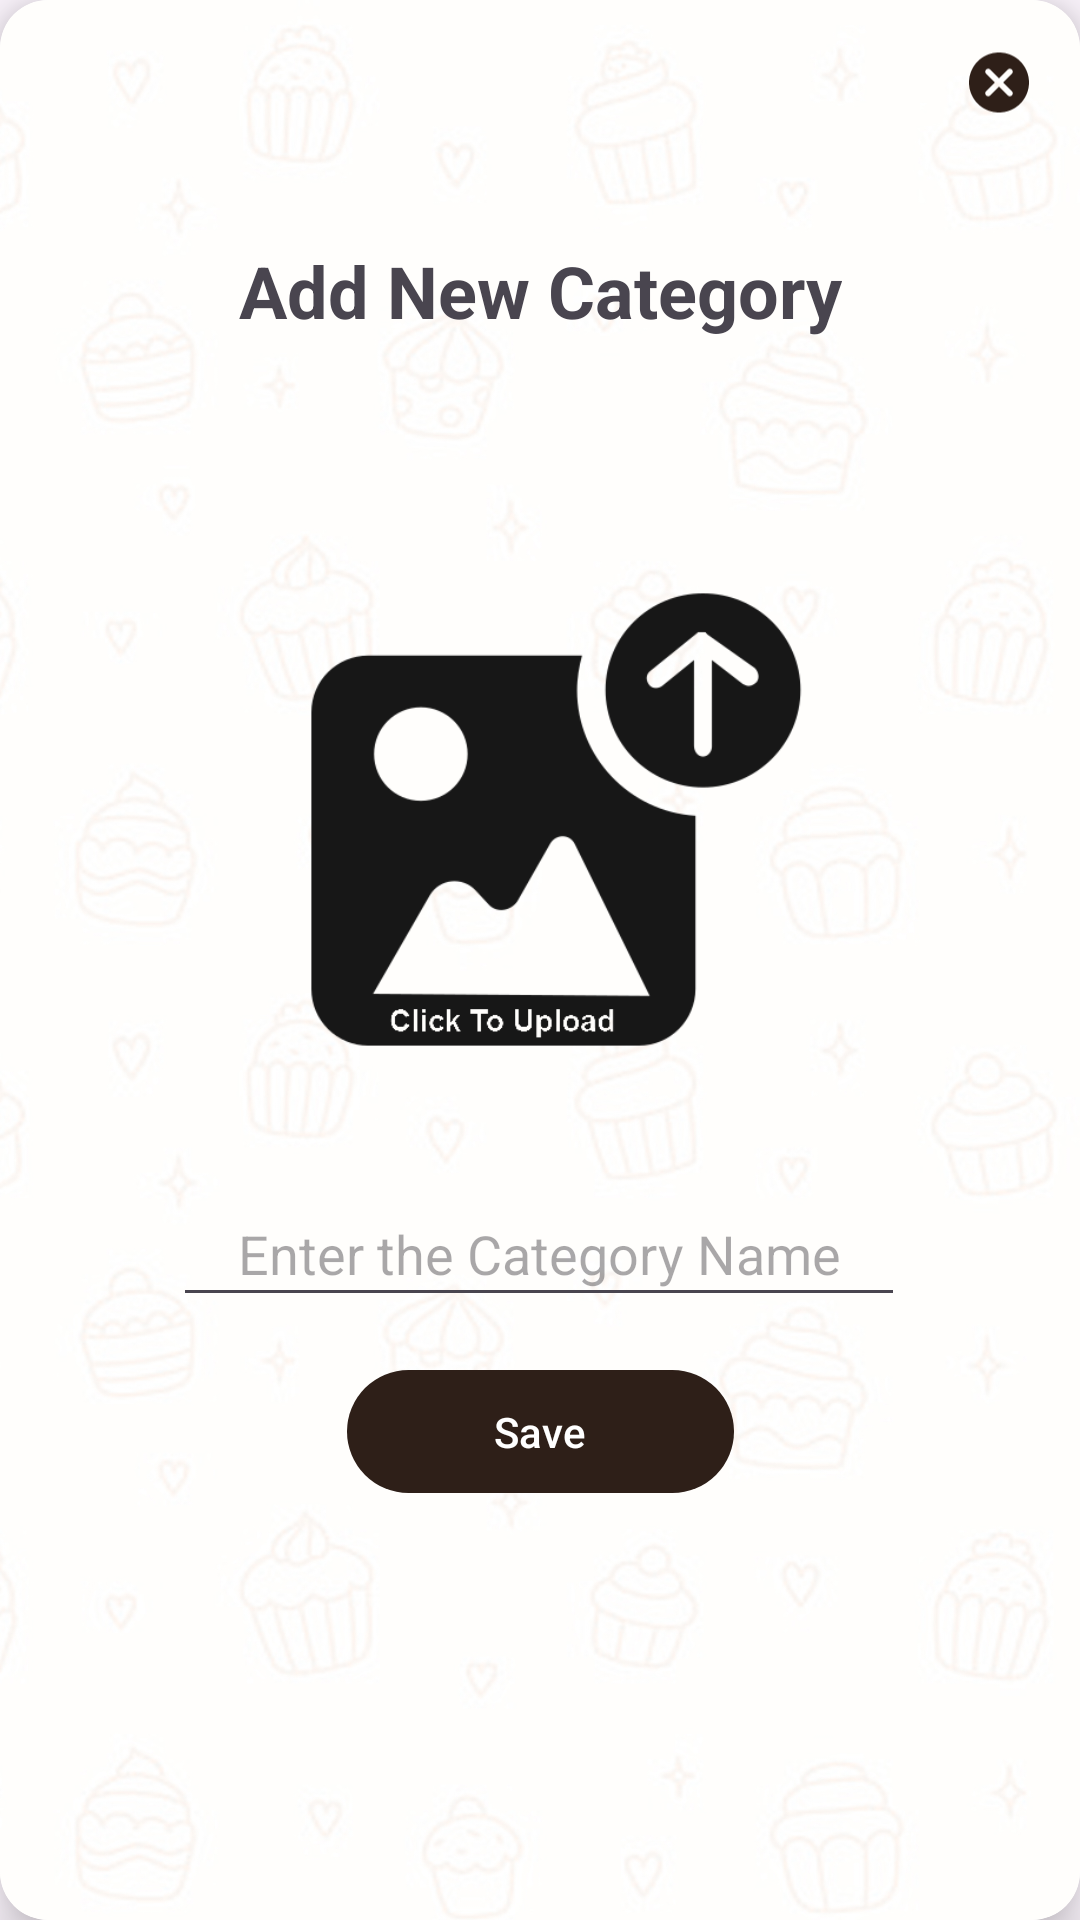

Locate icon controls on the screen. Image size 1080 × 1920, boxes as (x1, y1, x2, y2).
close: (969, 52, 1029, 113)
